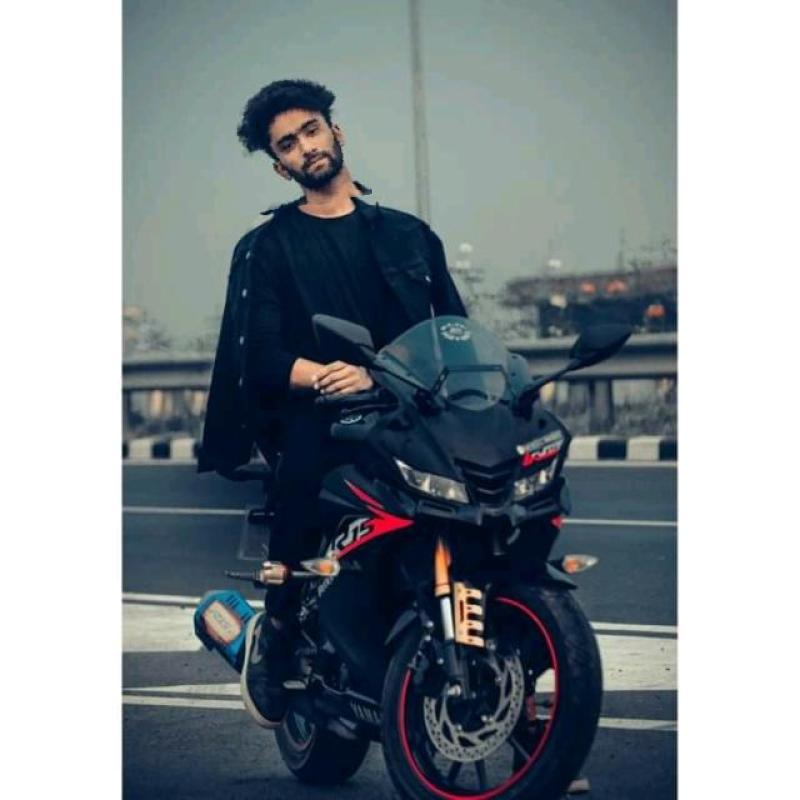nohelmet: (223, 71, 368, 211)
